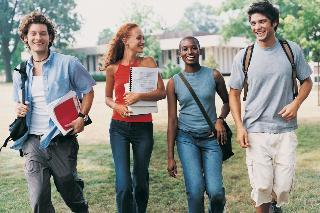person - v3 P: (228, 0, 312, 212), (12, 12, 95, 212), (100, 23, 165, 212), (167, 37, 229, 212)
